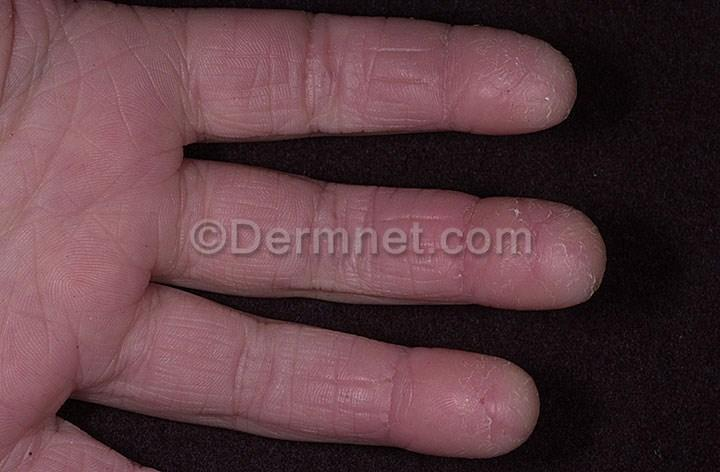eritema 1: (0, 1, 594, 471)
liquenificacion 1: (0, 0, 609, 471)
xerosis 2: (501, 204, 616, 310), (463, 34, 582, 134), (466, 349, 542, 458)
